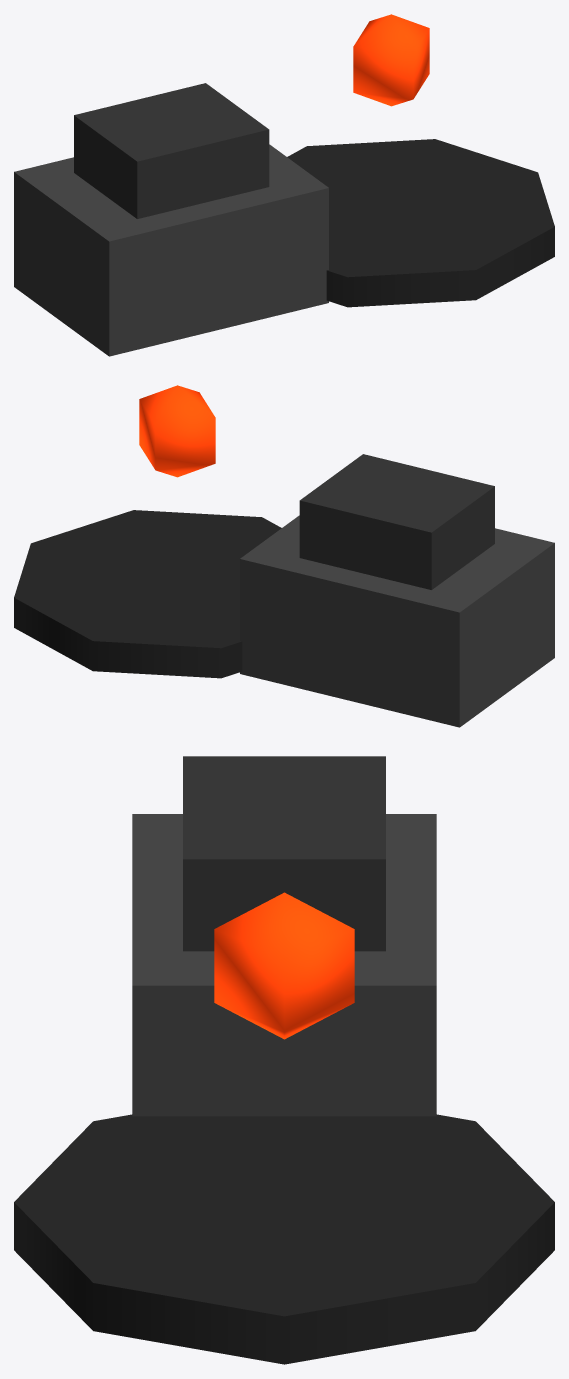
File: forge_t1.glb
The picture shows the model from 3 angles, top to bottom: view 1: azimuth 30°, elevation 25°; view 2: azimuth 150°, elevation 25°; view 3: azimuth 270°, elevation 25°; orthographic projection. The views are drawn at different scales.
Visible parts, largest first — view 1: building-forge; view 2: building-forge; view 3: building-forge.
Part boxes in pixels (x1=…): building-forge: x1=14, y1=14, x2=554, y2=356; building-forge: x1=14, y1=385, x2=554, y2=727; building-forge: x1=14, y1=756, x2=554, y2=1364.
Size of the model in its own units: 0.0827 by 0.0376 by 0.0509.
